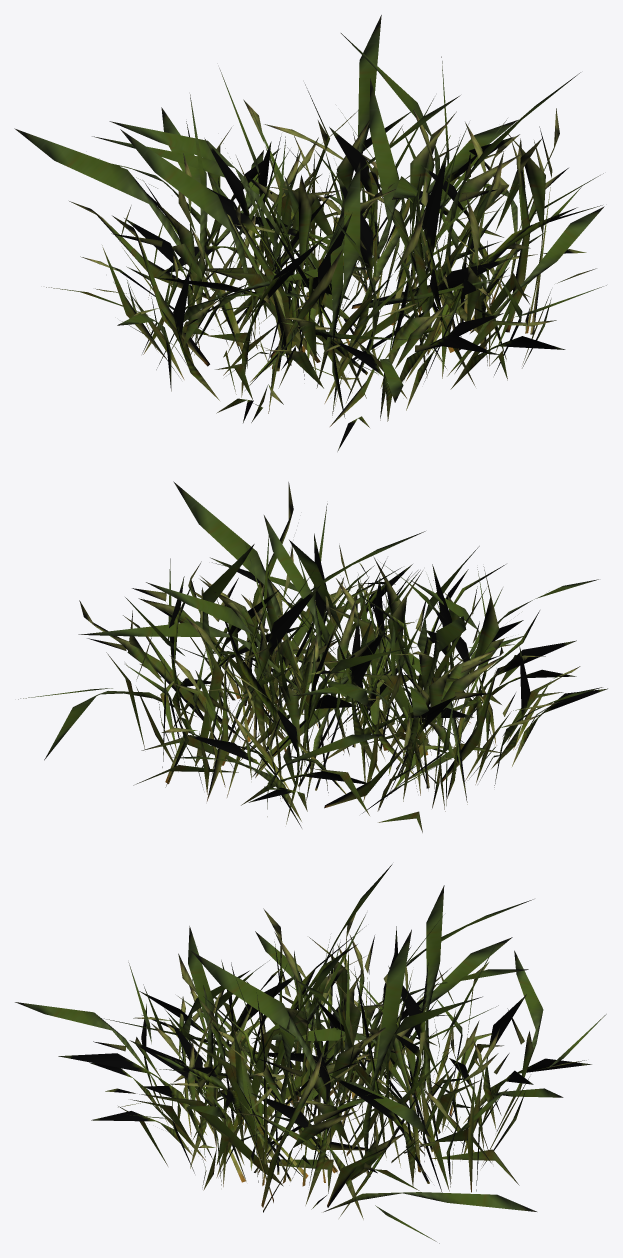
Rendered from grass_medium_01_v1.glb.
The picture shows the model from 3 angles, top to bottom: view 1: azimuth 30°, elevation 25°; view 2: azimuth 150°, elevation 25°; view 3: azimuth 270°, elevation 25°; orthographic projection. The views are drawn at different scales.
Parts seen in each view (by area): view 1: lod0; view 2: lod0; view 3: lod0.
Boxes of the visible parts, box(x1,y1,x2,y2) form: lod0: box(14, 15, 606, 451); lod0: box(18, 481, 607, 832); lod0: box(15, 864, 606, 1243).
Size of what is drawn, in the model's own units: 0.3182 by 0.1453 by 0.3266.
1 material, 1 textured.
